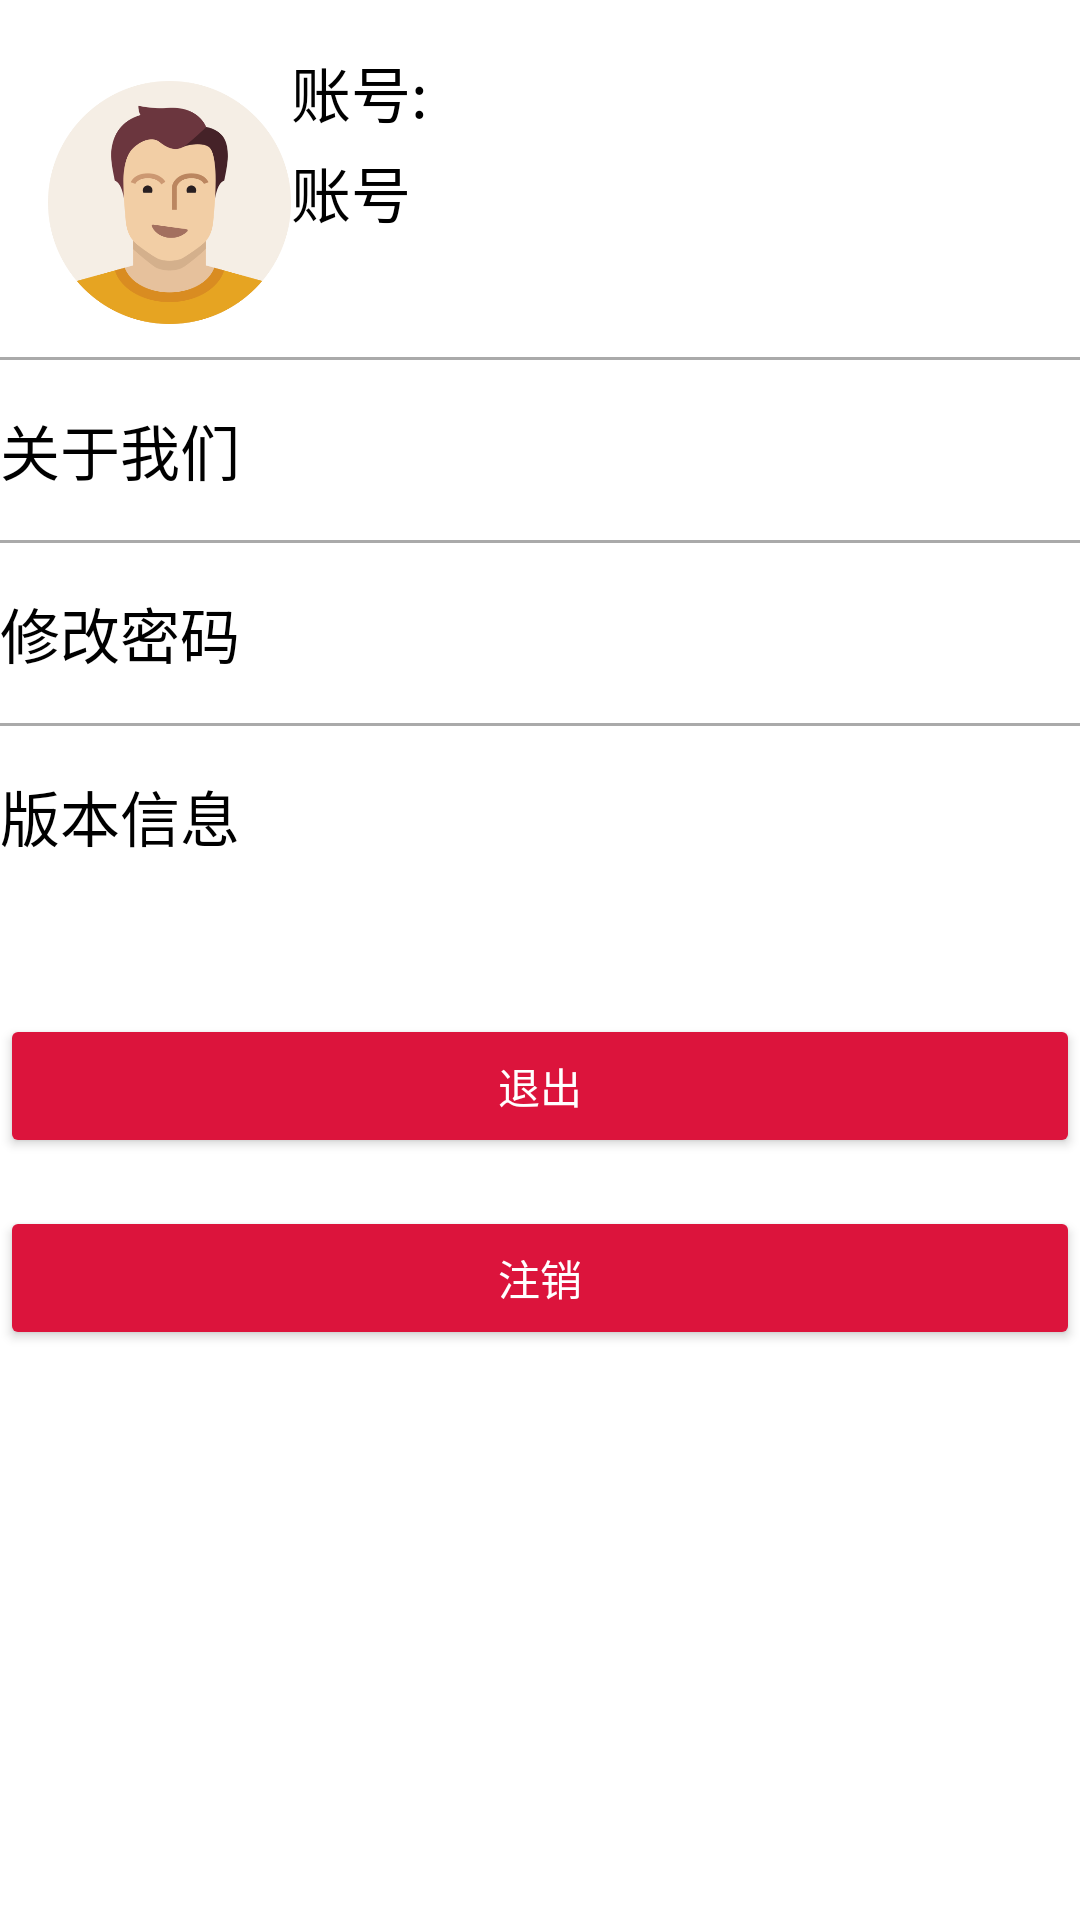

Screen size 1080px×1920px. Icon name, then its center in pixels as (x,y):
person user: (169,202)
